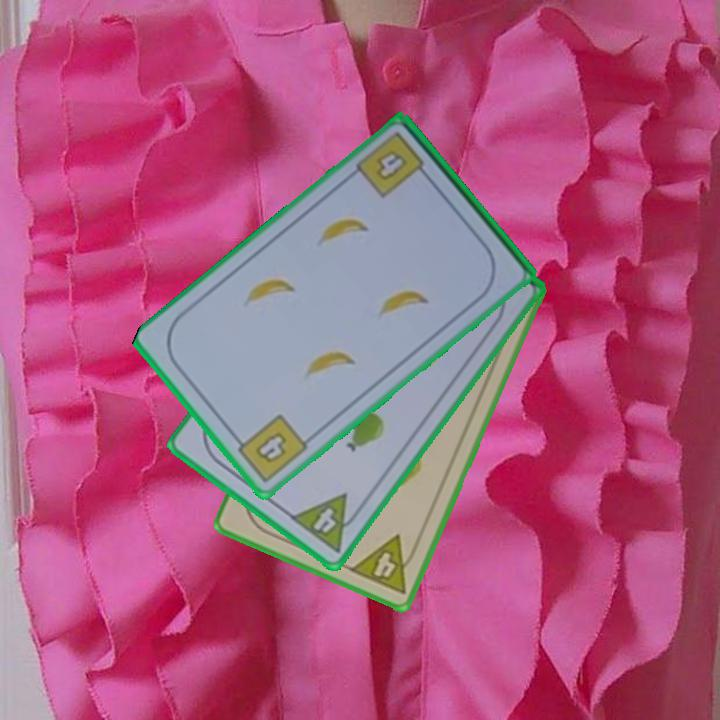4b: (229, 410, 311, 486), (352, 128, 433, 202)
4p: (287, 490, 367, 556), (346, 531, 422, 597)
